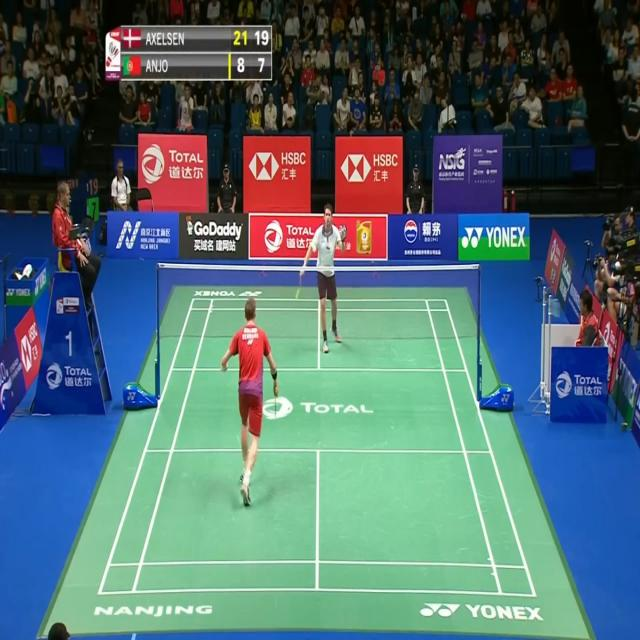Player1: (219, 295, 283, 512)
Player2: (295, 196, 353, 356)
